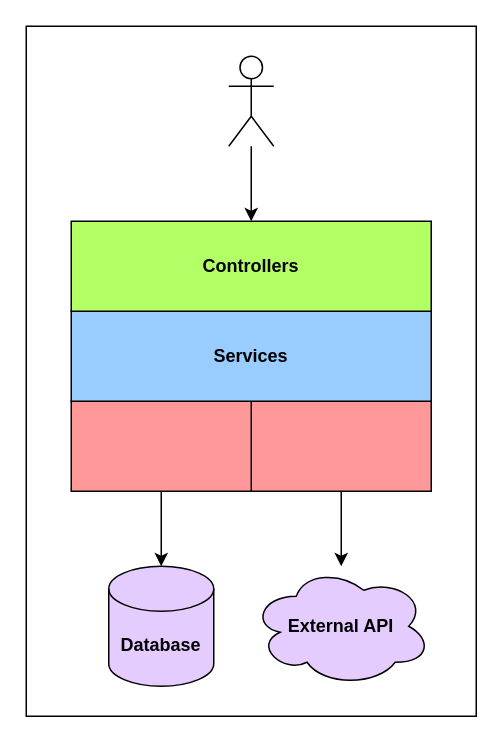
Some shapes in this 503 by 743 pixel diagram are drawn without their labels. The centre of each missing label's shape, as x and y in pixels:
Providers: [340,445]
Repositories: [160,445]
